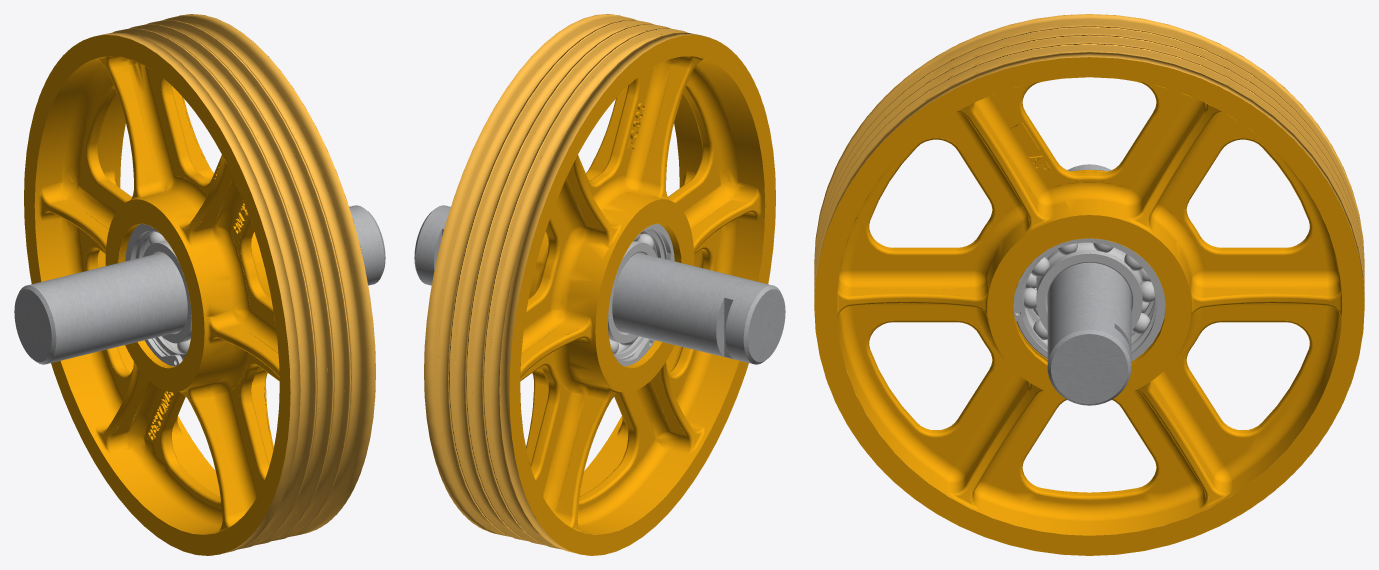
File: Diverted_wheels.glb
3 views of the same model, side by side, from view 1: azimuth 30°, elevation 25°; view 2: azimuth 150°, elevation 25°; view 3: azimuth 270°, elevation 25° (orthographic). The views are drawn at different scales.
Parts seen in each view (by area): view 1: _20X60_04G_08B_6210_D056, _20X60_04G_08B_6210_D056001, _20X60_04G_08B_6210_D059, _20X60_04G_08B_6210_D054, _20X60_04G_08B_6210_D057, _20X60_04G_08B_6210_D053; view 2: _20X60_04G_08B_6210_D056, _20X60_04G_08B_6210_D056001, _20X60_04G_08B_6210_D059, _20X60_04G_08B_6210_D054, _20X60_04G_08B_6210_D057, _20X60_04G_08B_6210_D053; view 3: _20X60_04G_08B_6210_D056, _20X60_04G_08B_6210_D056001, _20X60_04G_08B_6210_D059, _20X60_04G_08B_6210_D051, _20X60_04G_08B_6210_D058, _20X60_04G_08B_6210_D052, _20X60_04G_08B_6210_D50.
Part boxes in pixels (x1,y1,x2,y2): _20X60_04G_08B_6210_D056: [24, 14, 375, 555]; _20X60_04G_08B_6210_D056001: [26, 14, 375, 555]; _20X60_04G_08B_6210_D059: [14, 205, 385, 364]; _20X60_04G_08B_6210_D054: [143, 241, 191, 343]; _20X60_04G_08B_6210_D057: [125, 223, 182, 366]; _20X60_04G_08B_6210_D053: [134, 229, 214, 359]; _20X60_04G_08B_6210_D056: [424, 14, 775, 555]; _20X60_04G_08B_6210_D056001: [424, 14, 773, 555]; _20X60_04G_08B_6210_D059: [414, 205, 785, 364]; _20X60_04G_08B_6210_D054: [608, 241, 656, 343]; _20X60_04G_08B_6210_D057: [613, 223, 674, 366]; _20X60_04G_08B_6210_D053: [572, 229, 666, 359]; _20X60_04G_08B_6210_D056: [814, 14, 1364, 555]; _20X60_04G_08B_6210_D056001: [814, 14, 1364, 550]; _20X60_04G_08B_6210_D059: [1047, 164, 1131, 405]; _20X60_04G_08B_6210_D051: [1036, 242, 1142, 330]; _20X60_04G_08B_6210_D058: [1013, 238, 1165, 361]; _20X60_04G_08B_6210_D052: [1024, 243, 1154, 339]; _20X60_04G_08B_6210_D50: [1015, 252, 1156, 358].
Size of the model in its own units: 0.2341 by 0.324 by 0.324.
Materials: 4 (1 with a texture image).
